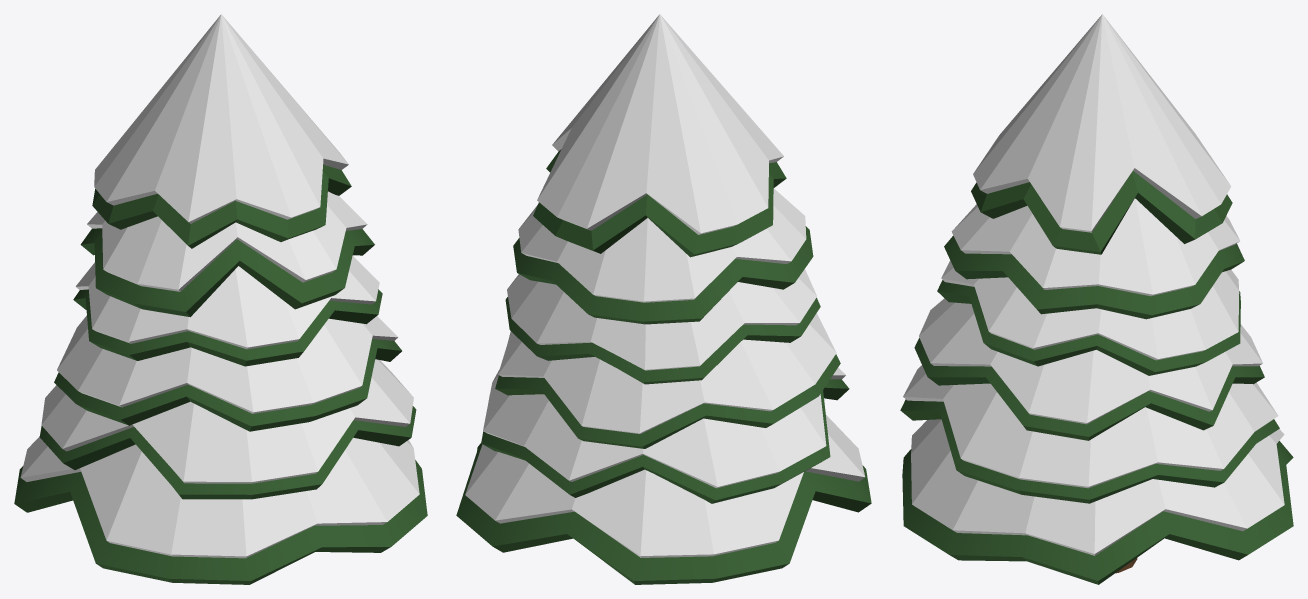
Rendered from Tree 1.fbx.
3 renders of one model, left to right at view 1: azimuth 30°, elevation 25°; view 2: azimuth 150°, elevation 25°; view 3: azimuth 270°, elevation 25°, orthographic.
Parts seen in each view (by area): view 1: Cylinder.003; view 2: Cylinder.003; view 3: Cylinder.003.
Part boxes in pixels (x1,y1,x2,y2): Cylinder.003: (14,14,427,584); Cylinder.003: (456,14,871,584); Cylinder.003: (900,14,1293,584).
Size of the model in its own units: 2.06 by 3.05 by 1.99.
